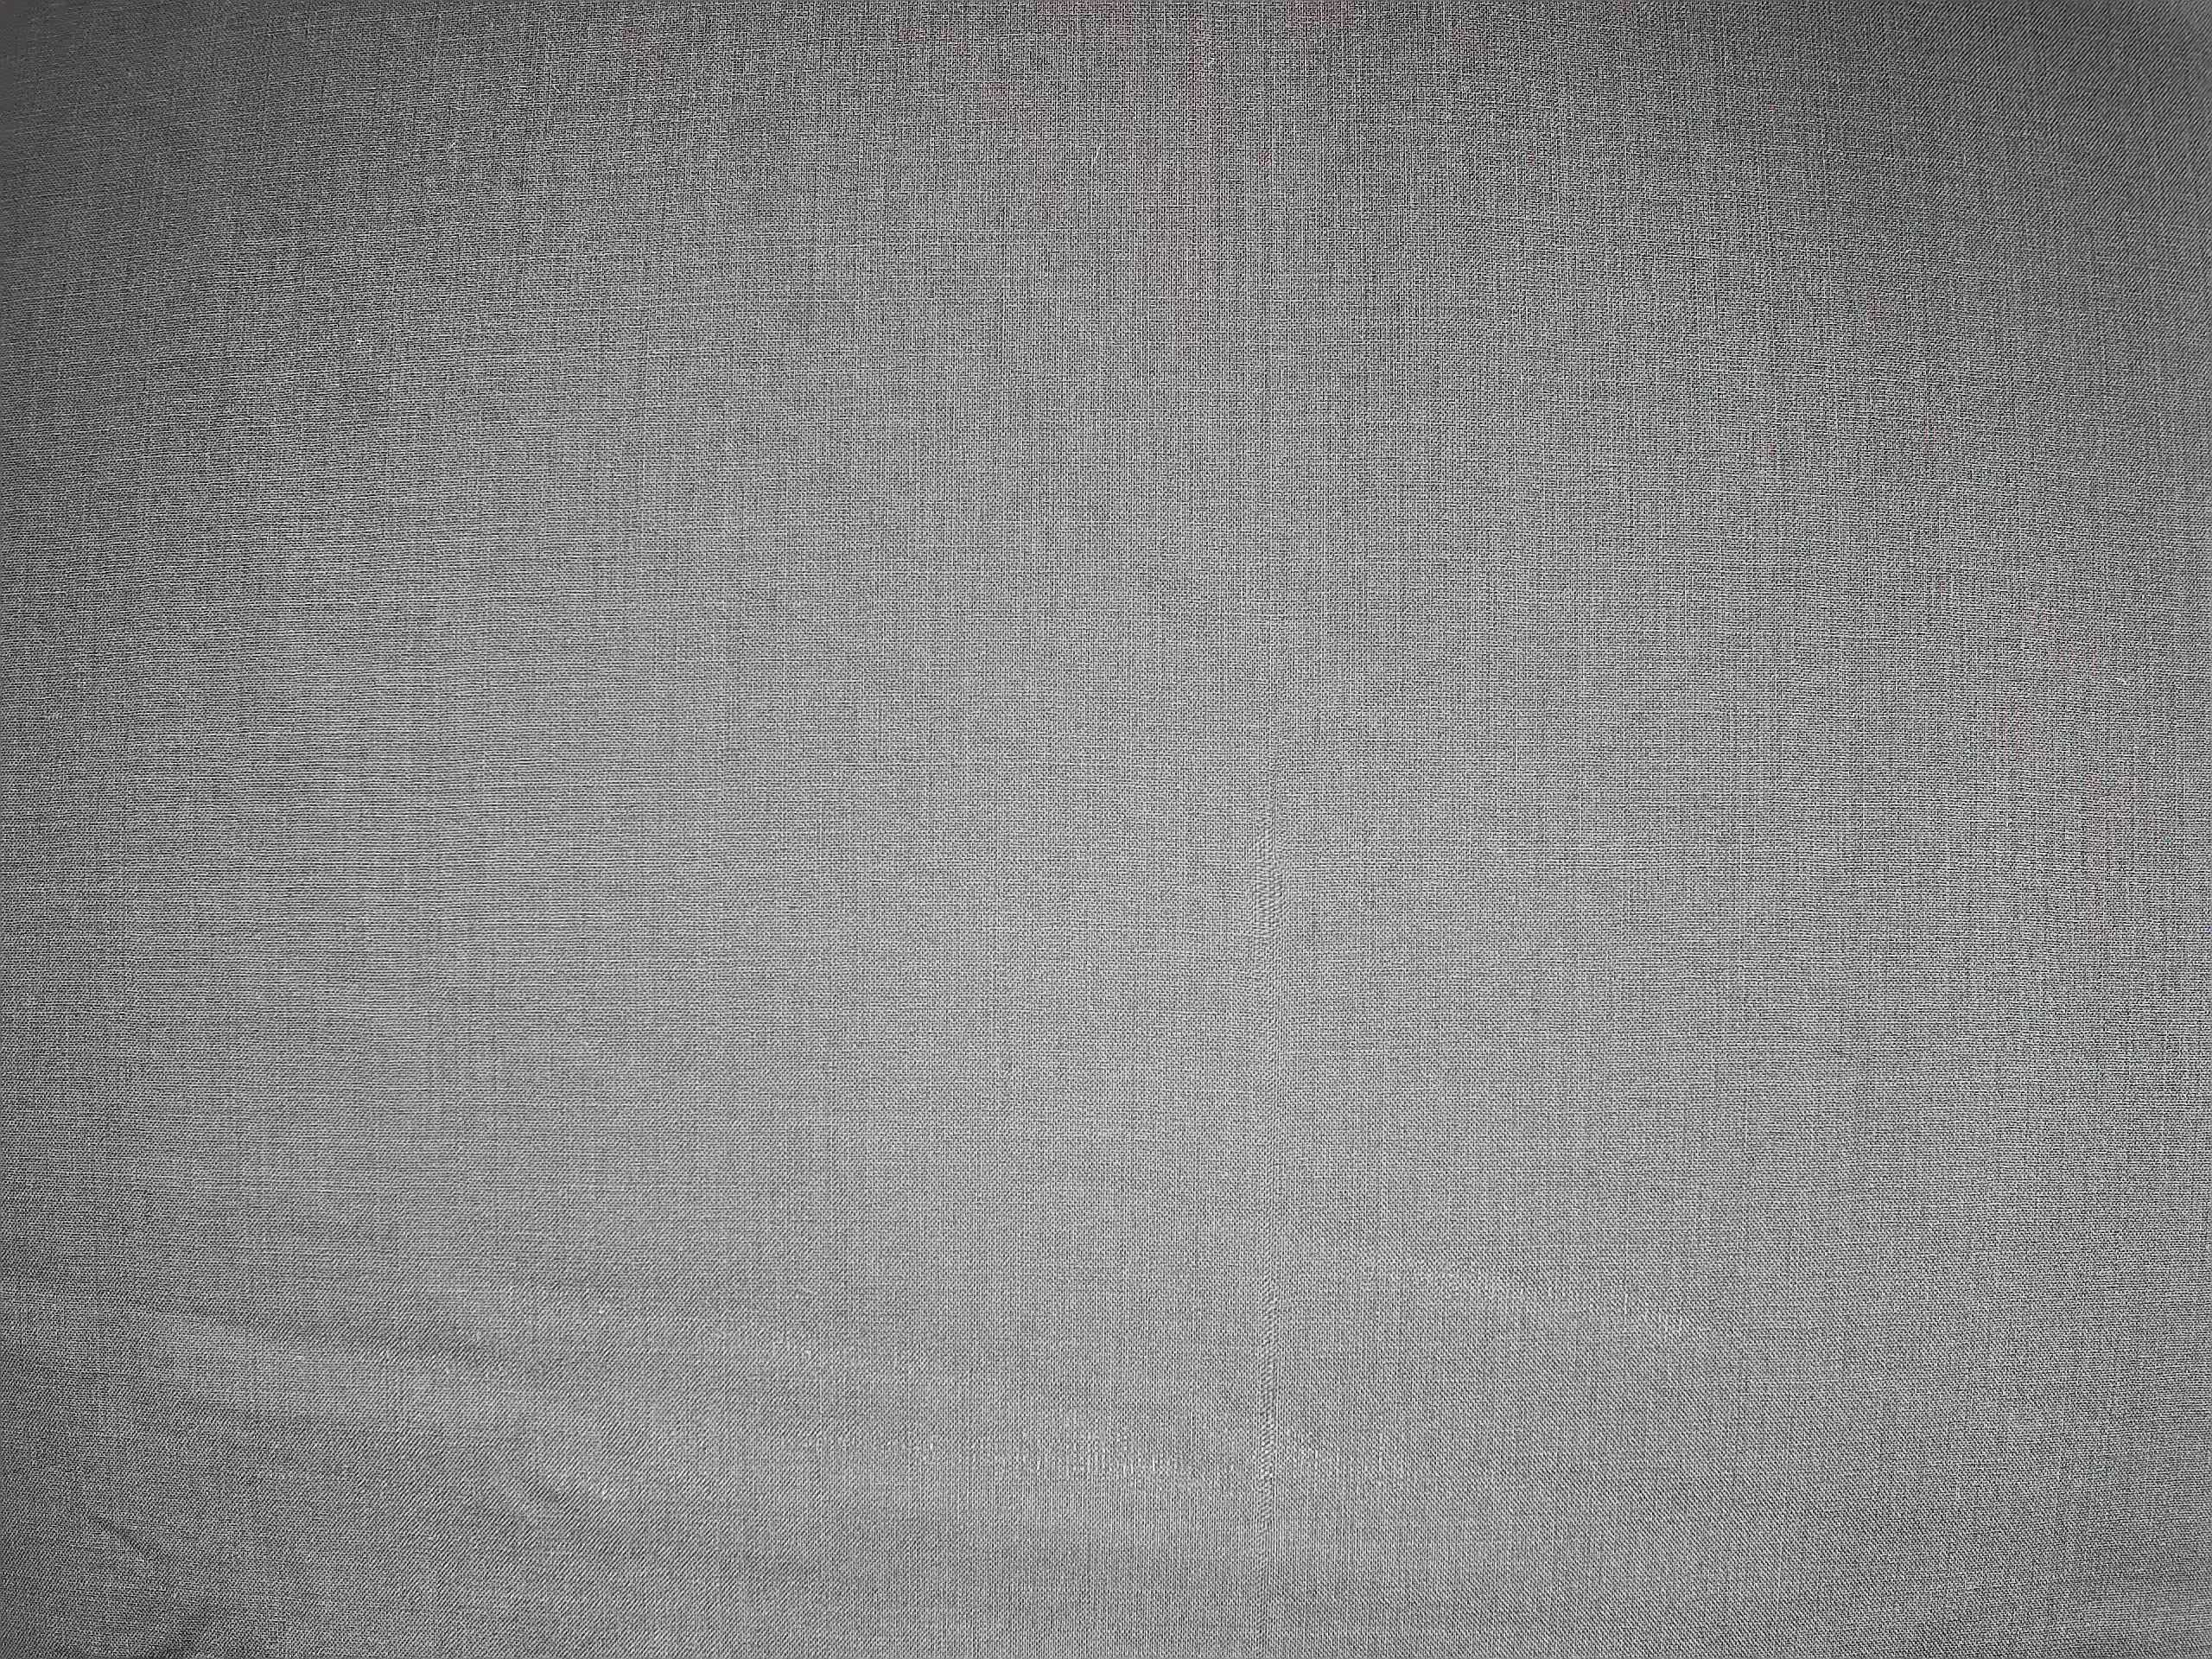hanging-warp: (1247, 1274, 1292, 1534)
